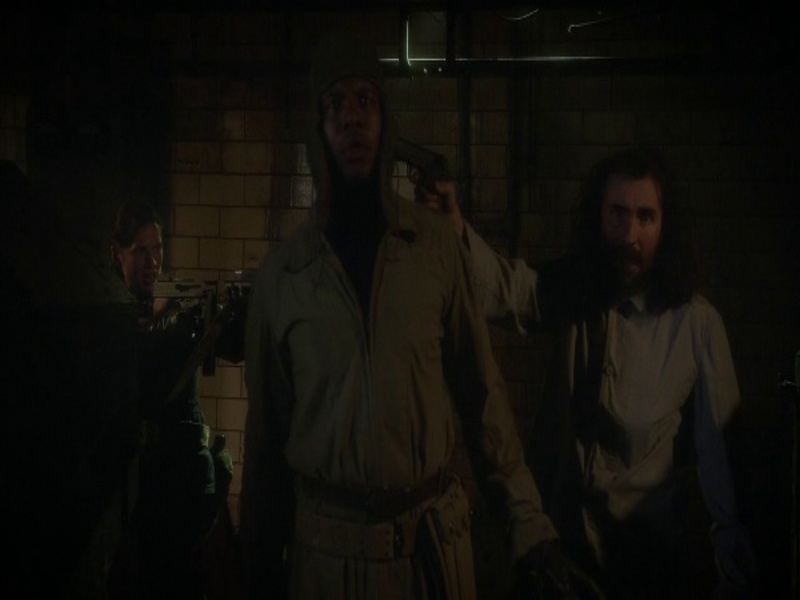person: (236, 70, 580, 596), (412, 163, 764, 580), (102, 209, 236, 590)
weapon: (153, 277, 255, 376), (381, 130, 448, 205)
